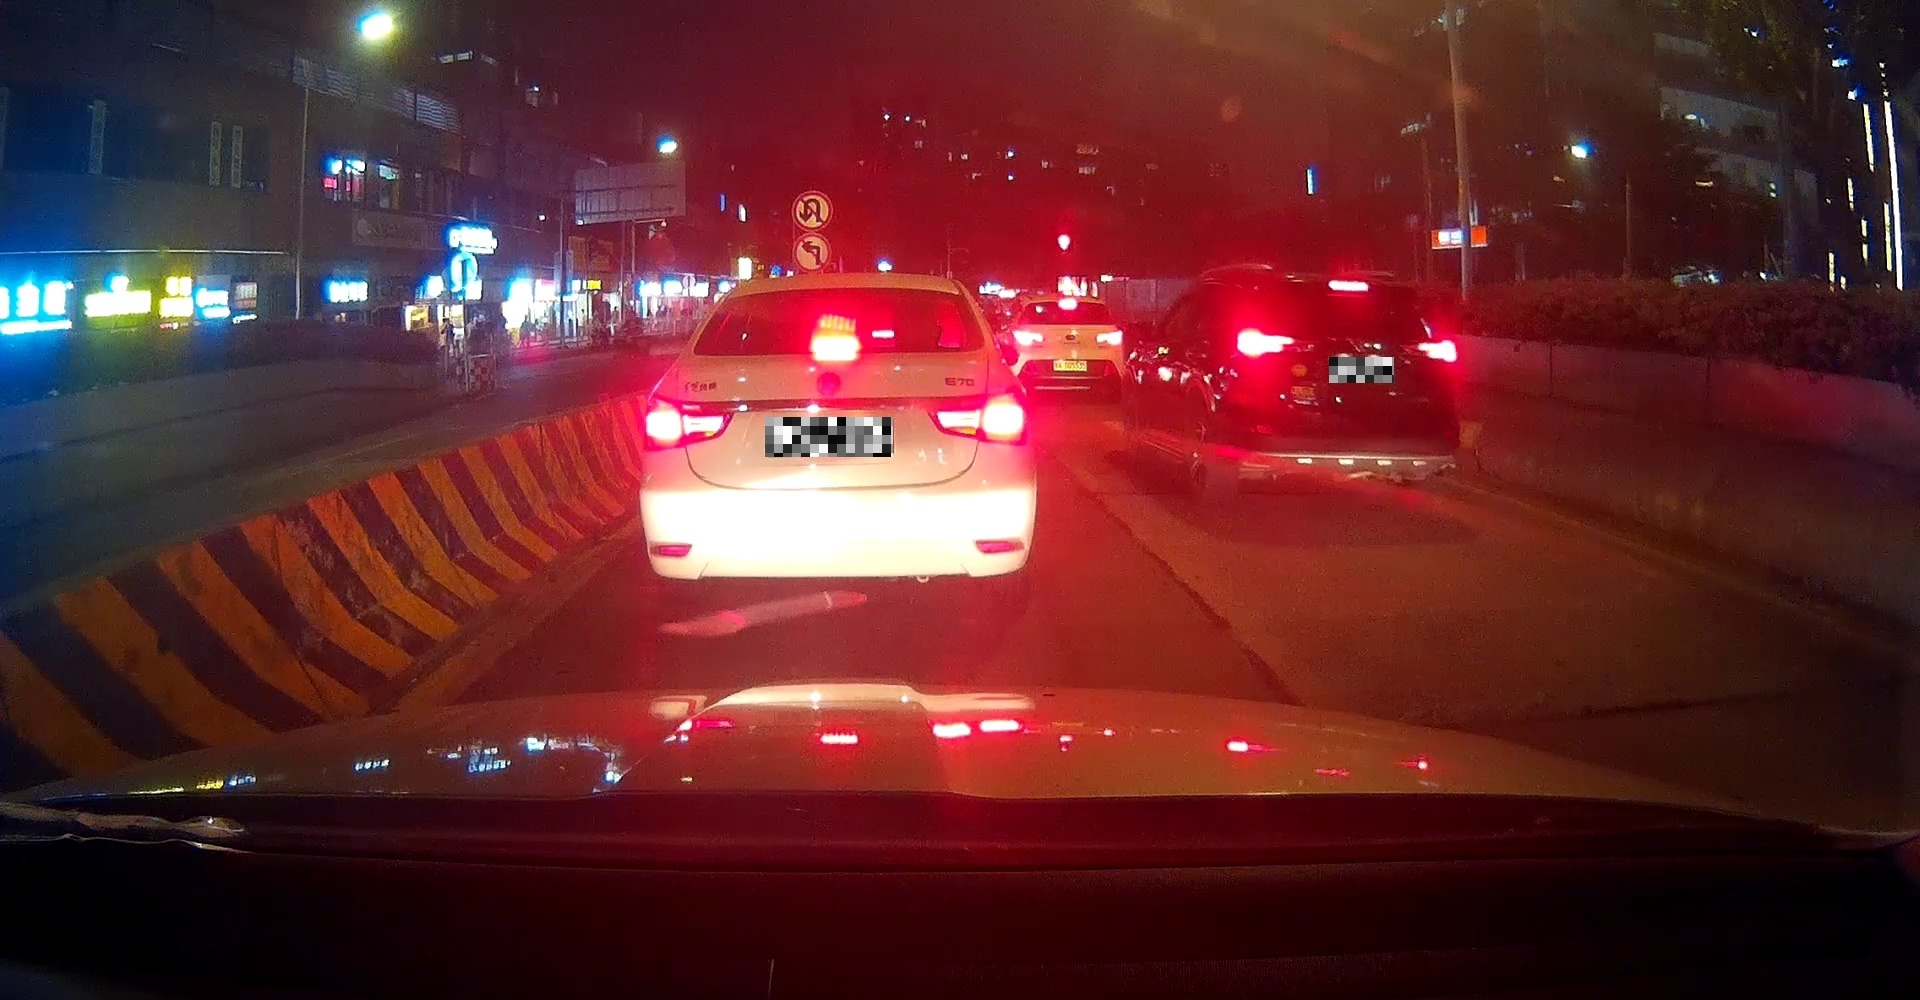L_light: (643, 393, 735, 451), (1236, 327, 1294, 357)
R_light: (924, 387, 1030, 445), (1417, 340, 1457, 362)
T_light: (811, 336, 860, 352), (1328, 280, 1369, 291)
night-brake: (639, 272, 1037, 610), (1230, 273, 1460, 504)
plate_1: (764, 418, 893, 457)
plate_2: (1330, 357, 1394, 383)
